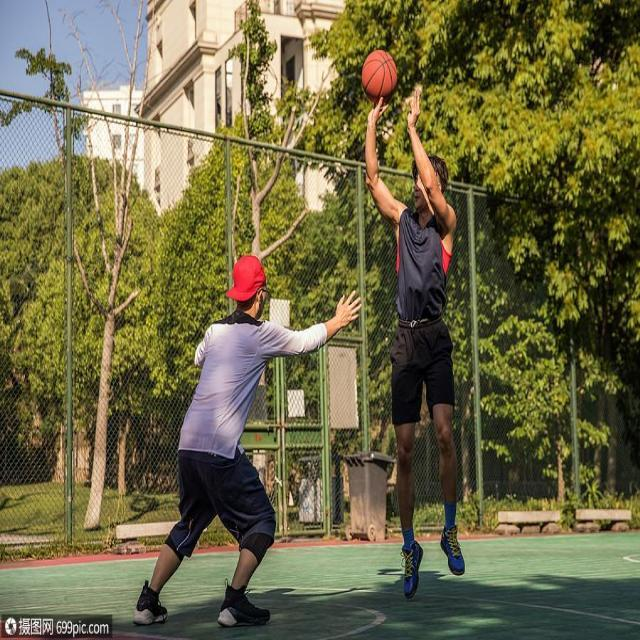rim: (362, 49, 398, 99)
